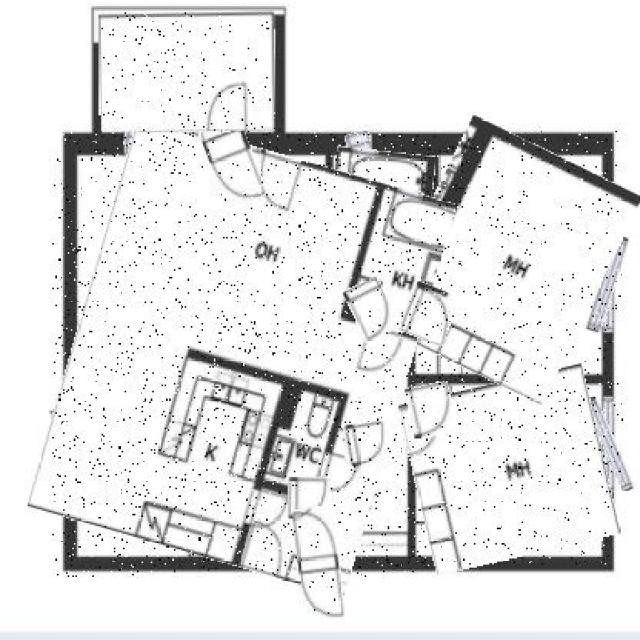door: (52, 132, 431, 577), (392, 131, 622, 389), (408, 372, 610, 565), (100, 12, 275, 132), (328, 149, 432, 283), (286, 363, 359, 469)
window: (196, 85, 258, 206), (296, 508, 342, 622), (401, 285, 457, 343), (348, 278, 397, 340), (406, 383, 456, 437), (342, 420, 389, 465), (288, 477, 330, 518)
zone: (57, 406, 86, 506), (594, 396, 624, 492), (594, 235, 621, 334), (125, 131, 203, 155), (346, 132, 369, 152)
